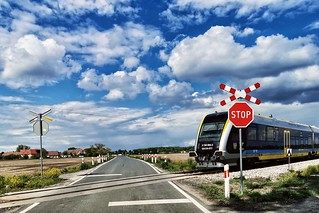StopSign: (227, 102, 253, 127)
